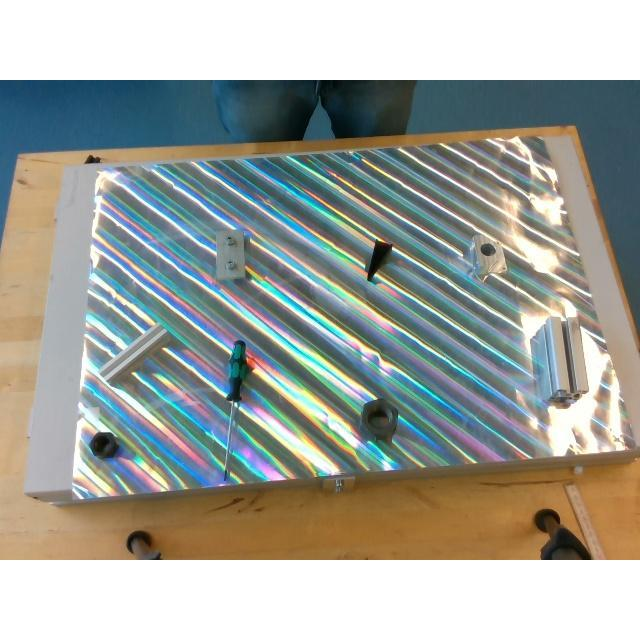F20_20_G: (100, 324, 172, 381)
M20: (88, 431, 120, 462)
M30: (362, 399, 398, 439)
S40_40_G: (530, 317, 586, 403)
Screwdriver: (222, 341, 250, 482)
